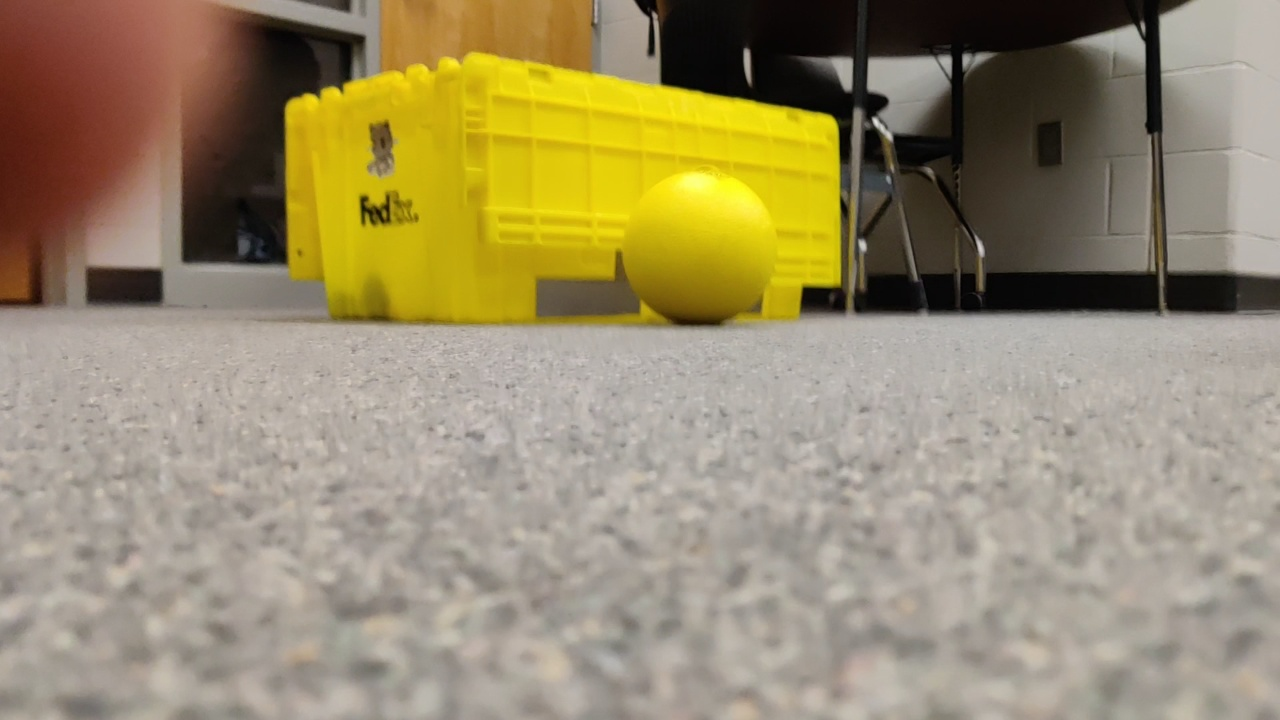Ball: (611, 169, 777, 324)
